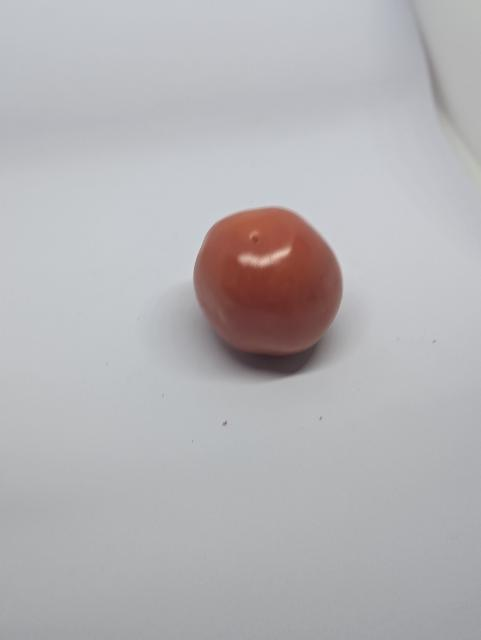red: (180, 203, 365, 379)
